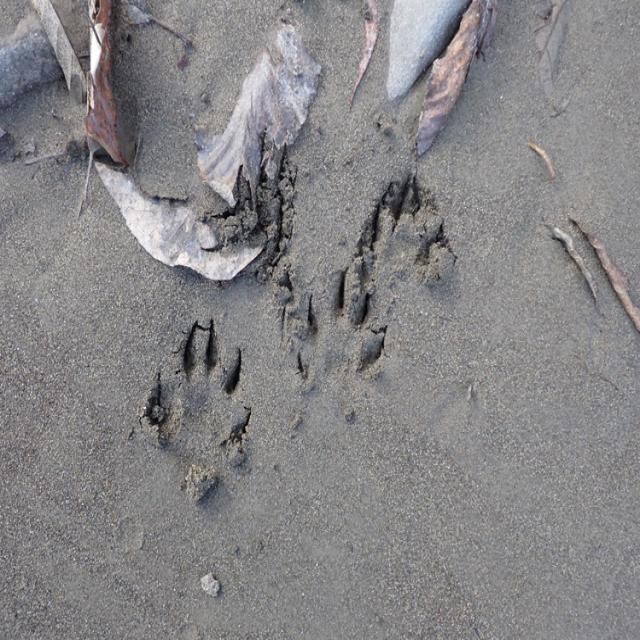mustelid: (143, 315, 252, 496), (294, 270, 388, 412), (366, 175, 459, 288)
